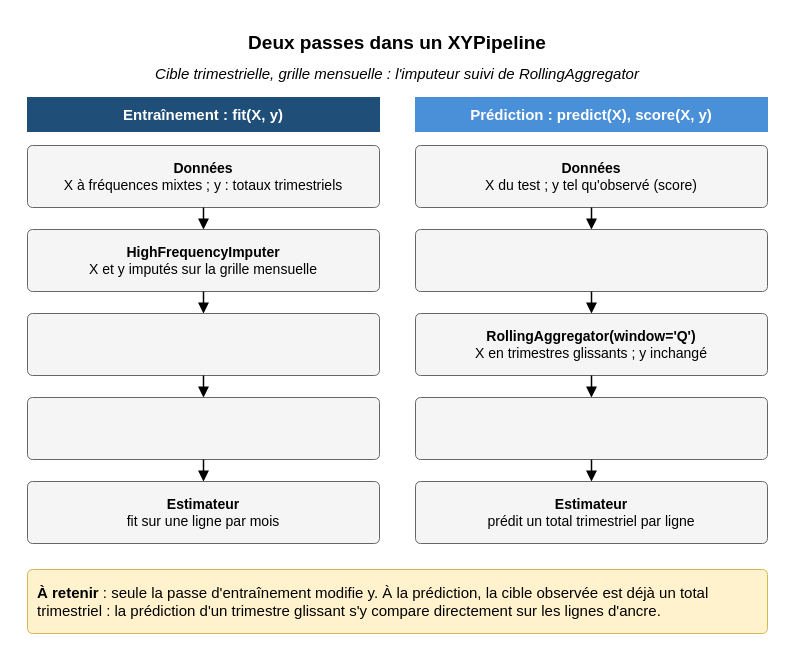
The diagram is 794 pixels wide and 664 high, and some of its shapes have lost their labels. The centre of each missing label's shape, as x and y in pixels:
"DropNaNTarget lignes sans cible retirées" goes at (203,428).
"DropNaNTarget score : lignes sans cible retirées ; predict : aucune" goes at (591,428).
"HighFrequencyImputer X seul, par les modèles figés ; y inchangé" goes at (591,260).
"RollingAggregator(window='Q') X et y en trimestres glissants" goes at (203,344).
